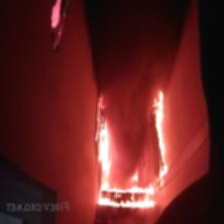fire: (86, 89, 169, 214)
